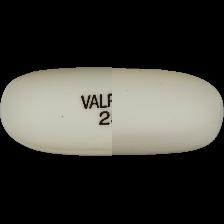54868-1689: (0, 0, 224, 224)
